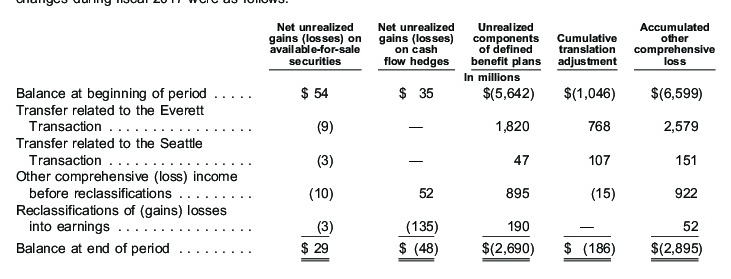table: (0, 0, 731, 279)
